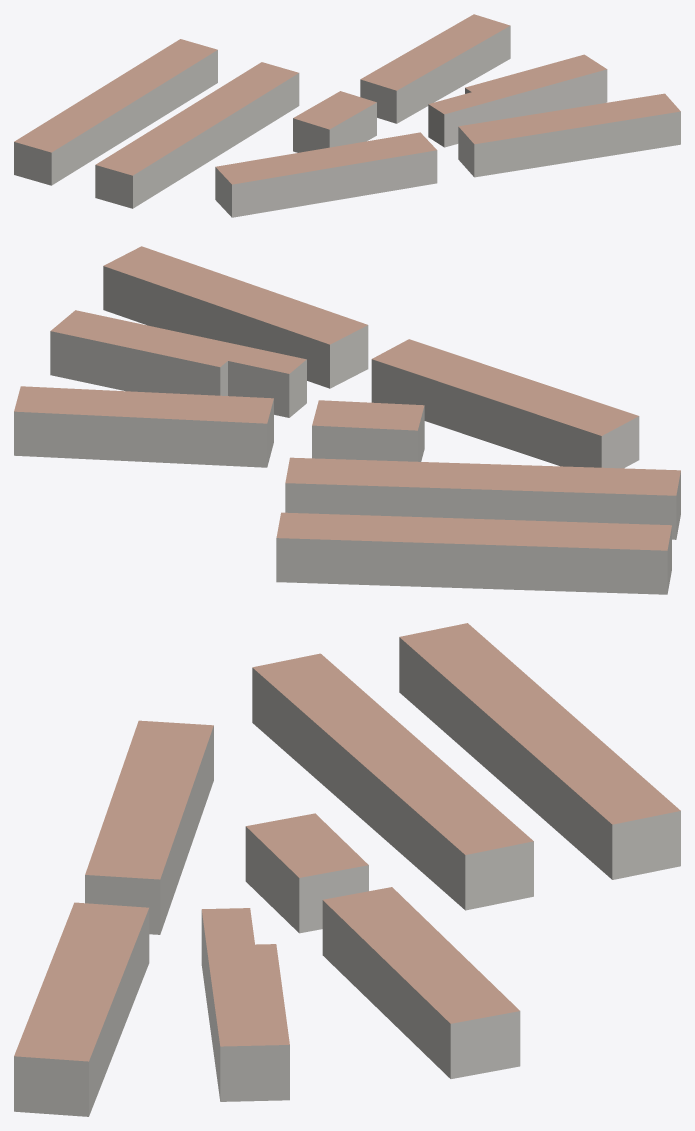
Rendered from gridID_116.dae.
The picture shows the model from 3 angles, top to bottom: view 1: azimuth 30°, elevation 25°; view 2: azimuth 150°, elevation 25°; view 3: azimuth 270°, elevation 25°; orthographic projection. The views are drawn at different scales.
Visible parts, largest first — view 1: model_gridID_116_w169930654, model_gridID_116_w169930651, model_gridID_116_w169930648, model_gridID_116_w169930646, model_gridID_116_w169930645_001, model_gridID_116_r2262040, model_gridID_116_w169930645, model_gridID_116_r2262040_001; view 2: model_gridID_116_w169930651, model_gridID_116_w169930654, model_gridID_116_w169930648, model_gridID_116_w169930645_001, model_gridID_116_w169930646, model_gridID_116_r2262040, model_gridID_116_w169930645, model_gridID_116_r2262040_001; view 3: model_gridID_116_w169930651, model_gridID_116_w169930654, model_gridID_116_w169930645_001, model_gridID_116_w169930646, model_gridID_116_w169930648, model_gridID_116_r2262040, model_gridID_116_w169930645, model_gridID_116_r2262040_001.
Boxes of the visible parts, x1,y1,x2,y2 form: model_gridID_116_w169930654: (95,62,299,208); model_gridID_116_w169930651: (14,39,217,185); model_gridID_116_w169930648: (215,132,437,217); model_gridID_116_w169930646: (458,93,680,177); model_gridID_116_w169930645_001: (360,14,510,123); model_gridID_116_r2262040: (465,54,607,121); model_gridID_116_w169930645: (293,91,376,152); model_gridID_116_r2262040_001: (428,92,487,147); model_gridID_116_w169930651: (276,512,671,594); model_gridID_116_w169930654: (285,457,680,539); model_gridID_116_w169930648: (371,339,639,468); model_gridID_116_w169930645_001: (14,386,273,467); model_gridID_116_w169930646: (103,246,368,388); model_gridID_116_r2262040: (50,310,244,395); model_gridID_116_w169930645: (312,400,424,461); model_gridID_116_r2262040_001: (228,346,306,417); model_gridID_116_w169930651: (399,623,680,879); model_gridID_116_w169930654: (252,653,533,910); model_gridID_116_w169930645_001: (322,887,520,1078); model_gridID_116_w169930646: (14,902,149,1116); model_gridID_116_w169930648: (85,720,213,934); model_gridID_116_r2262040: (206,944,289,1101); model_gridID_116_w169930645: (245,813,368,933); model_gridID_116_r2262040_001: (201,908,254,1000).
Size of the model in its own units: 127 by 81.83 by 7.5.
